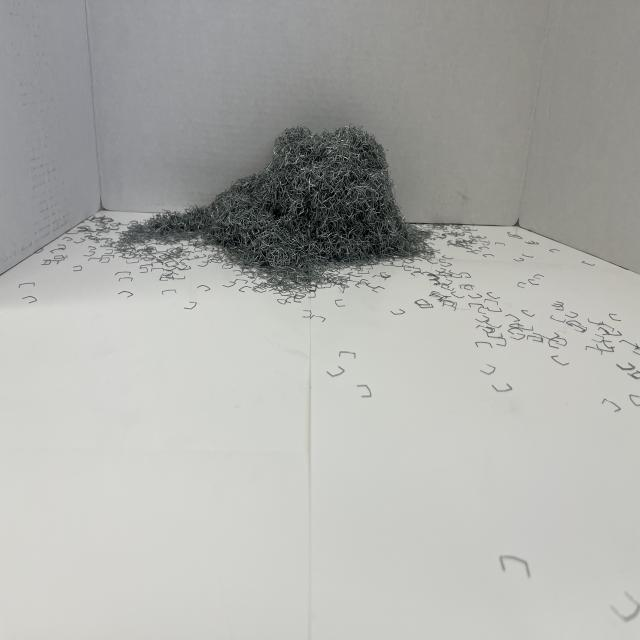staples: (117, 121, 433, 277)
